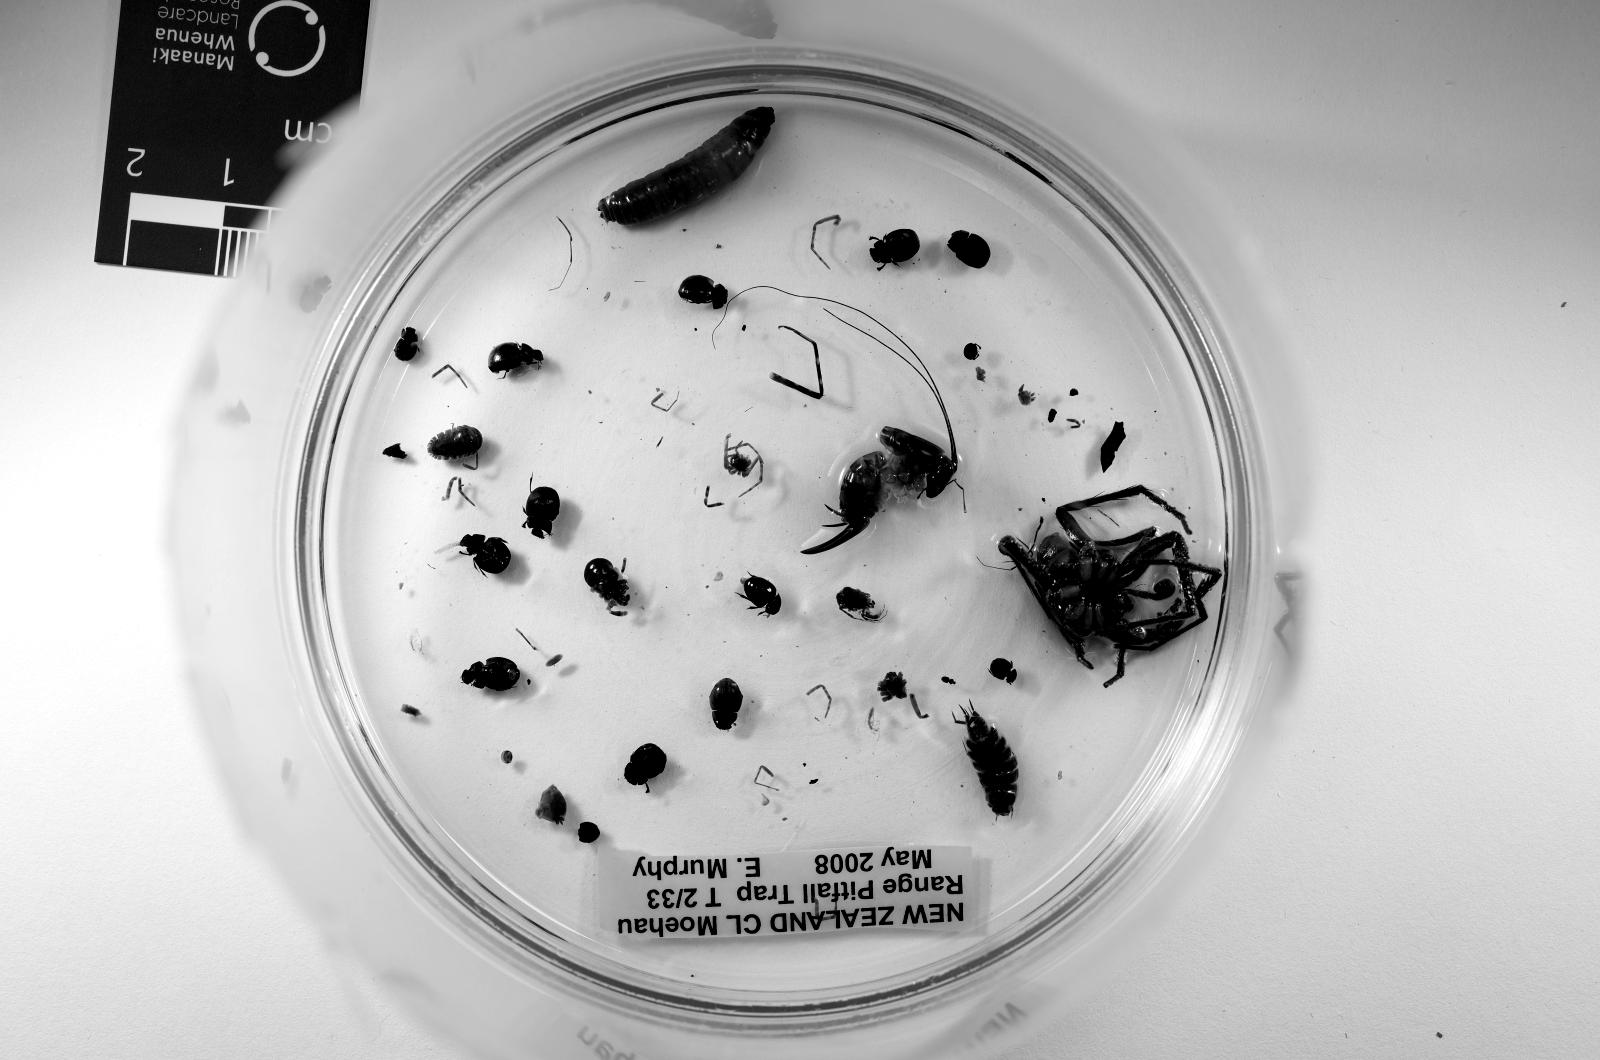araneae: (1000, 484, 1222, 683), (722, 435, 762, 484)
coleoptera: (459, 534, 512, 575), (488, 342, 544, 379), (872, 230, 919, 270), (462, 658, 522, 689), (625, 742, 666, 786), (678, 276, 728, 311), (709, 680, 744, 730), (525, 488, 559, 537), (947, 230, 991, 267), (741, 575, 781, 615), (394, 326, 419, 363), (991, 658, 1016, 683), (941, 677, 956, 686)
isopoda: (956, 705, 1019, 817), (428, 425, 481, 460)
opiliones: (584, 559, 631, 615), (838, 587, 884, 621)
orthoptera: (803, 429, 956, 556)
